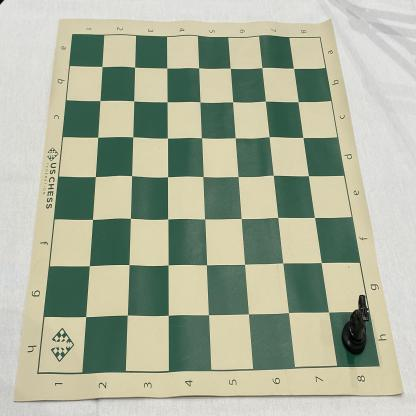black-knight: (341, 295, 368, 356)
